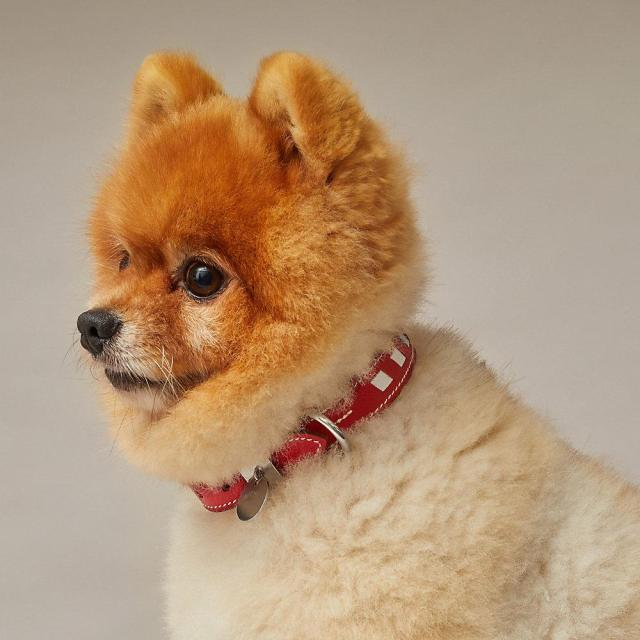Dog: (56, 29, 433, 447)
